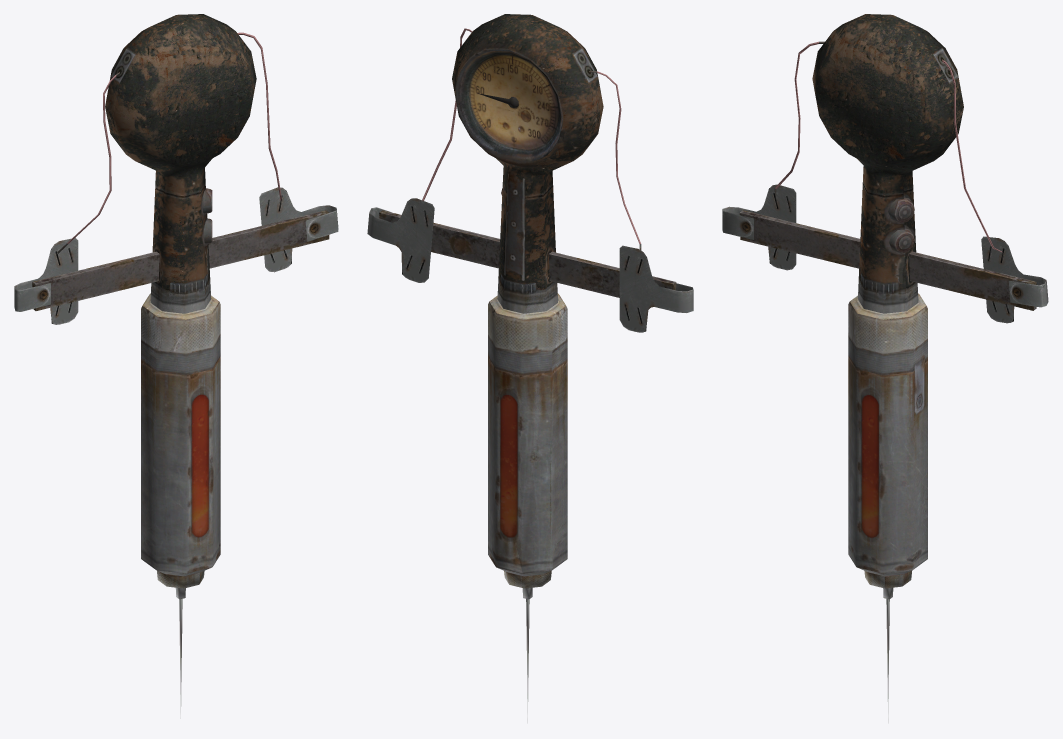
The model's file is stimpack.obj.
3 views of the same model, side by side, from view 1: azimuth 30°, elevation 25°; view 2: azimuth 150°, elevation 25°; view 3: azimuth 330°, elevation 25° (orthographic).
Visible parts, largest first — view 1: stimpack; view 2: stimpack; view 3: stimpack.
Boxes of the visible parts, x1,y1,x2,y2 form: stimpack: [14, 14, 338, 718]; stimpack: [367, 14, 693, 723]; stimpack: [722, 14, 1048, 723].
Size of the model in its own units: 11.91 by 24.86 by 2.4.
Materials: 3 (3 with a texture image).
